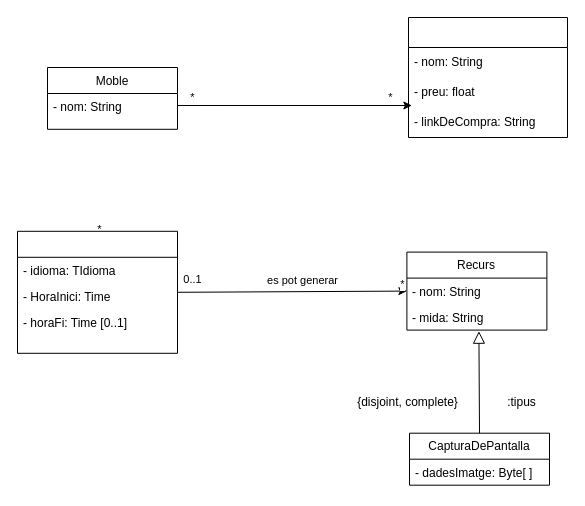
The diagram is 585 pixels wide and 506 high, and some of its shapes have lost their labels. Each missing label, with the box of its shape:
MobleSimilarExistent: (408, 16, 568, 138)
Visita: (16, 230, 178, 353)
